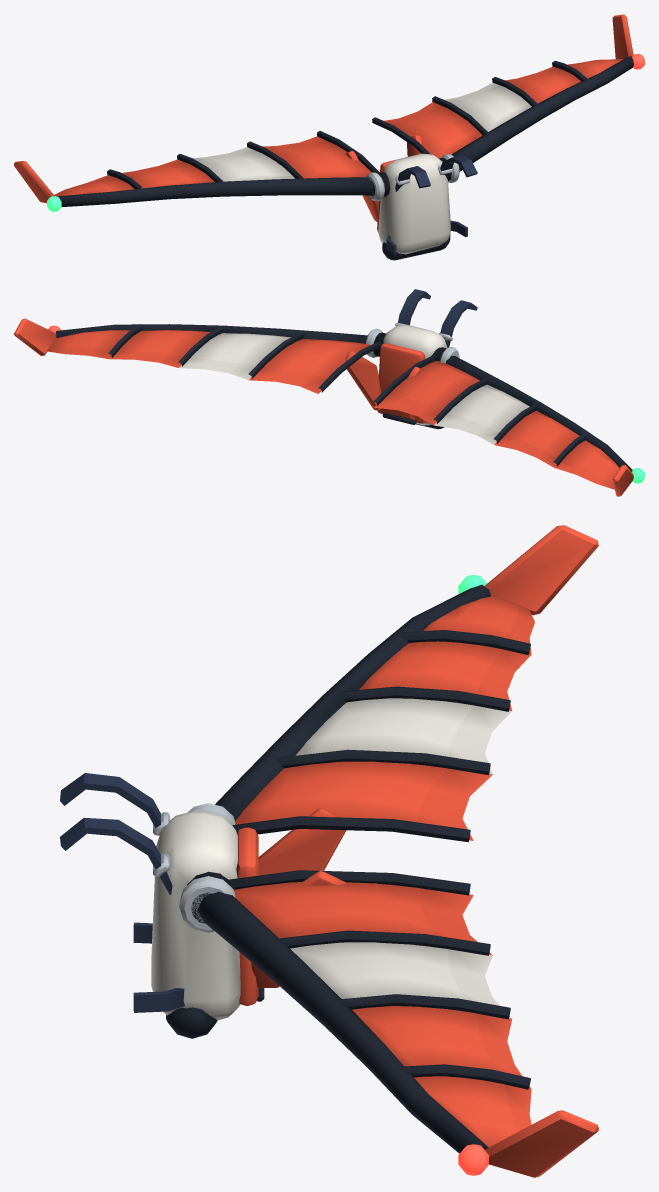
Rendered from flight-wing-swift.glb.
The picture shows the model from 3 angles, top to bottom: view 1: azimuth 30°, elevation 25°; view 2: azimuth 150°, elevation 25°; view 3: azimuth 270°, elevation 25°; orthographic projection. The views are drawn at different scales.
Parts seen in each view (by area): view 1: Swift wing Swift coral, Swift wing Carbon frame, Swift wing Cloud white, Swift wing Harness webbing, Swift wing Buckle alloy; view 2: Swift wing Swift coral, Swift wing Carbon frame, Swift wing Cloud white, Swift wing Harness webbing, Swift wing Buckle alloy; view 3: Swift wing Swift coral, Swift wing Carbon frame, Swift wing Cloud white, Swift wing Harness webbing, Swift wing Buckle alloy.
Boxes of the visible parts, <box> form: Swift wing Swift coral: <box>14,14,633,232</box>; Swift wing Carbon frame: <box>57,56,633,260</box>; Swift wing Cloud white: <box>378,153,450,254</box>; Swift wing Harness webbing: <box>386,155,477,254</box>; Swift wing Buckle alloy: <box>366,154,459,201</box>; Swift wing Swift coral: <box>14,318,633,496</box>; Swift wing Carbon frame: <box>56,324,632,471</box>; Swift wing Cloud white: <box>383,324,447,425</box>; Swift wing Harness webbing: <box>398,289,477,347</box>; Swift wing Buckle alloy: <box>366,322,459,363</box>; Swift wing Swift coral: <box>234,525,598,1177</box>; Swift wing Carbon frame: <box>166,584,530,1153</box>; Swift wing Cloud white: <box>151,811,240,1020</box>; Swift wing Harness webbing: <box>60,773,184,1012</box>; Swift wing Buckle alloy: <box>153,803,235,932</box>.
Size of the model in its own units: 4.32 by 0.7361 by 1.67.
